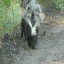skunk: (22, 19, 38, 47)
